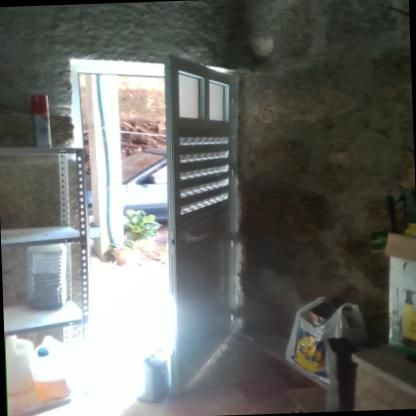semi: (55, 38, 279, 415)
